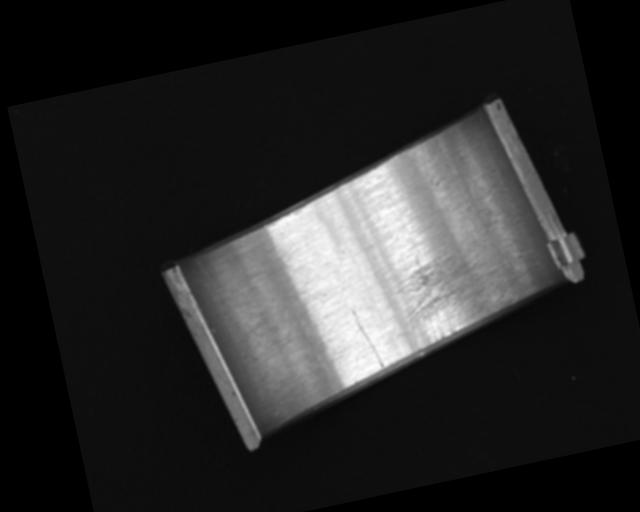nick: (196, 247, 258, 345), (350, 306, 384, 371)
scratch: (393, 238, 522, 353)
